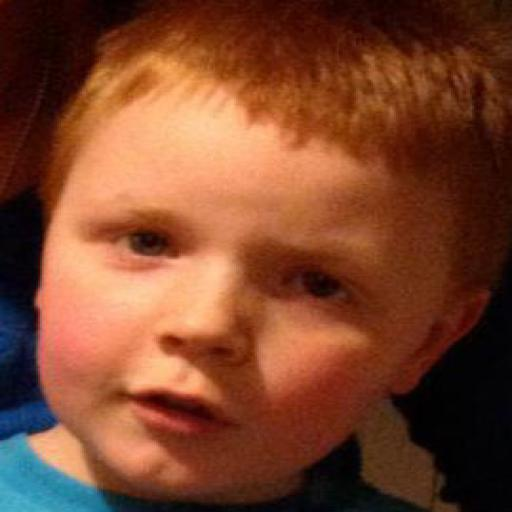Autism: (21, 9, 501, 496)
